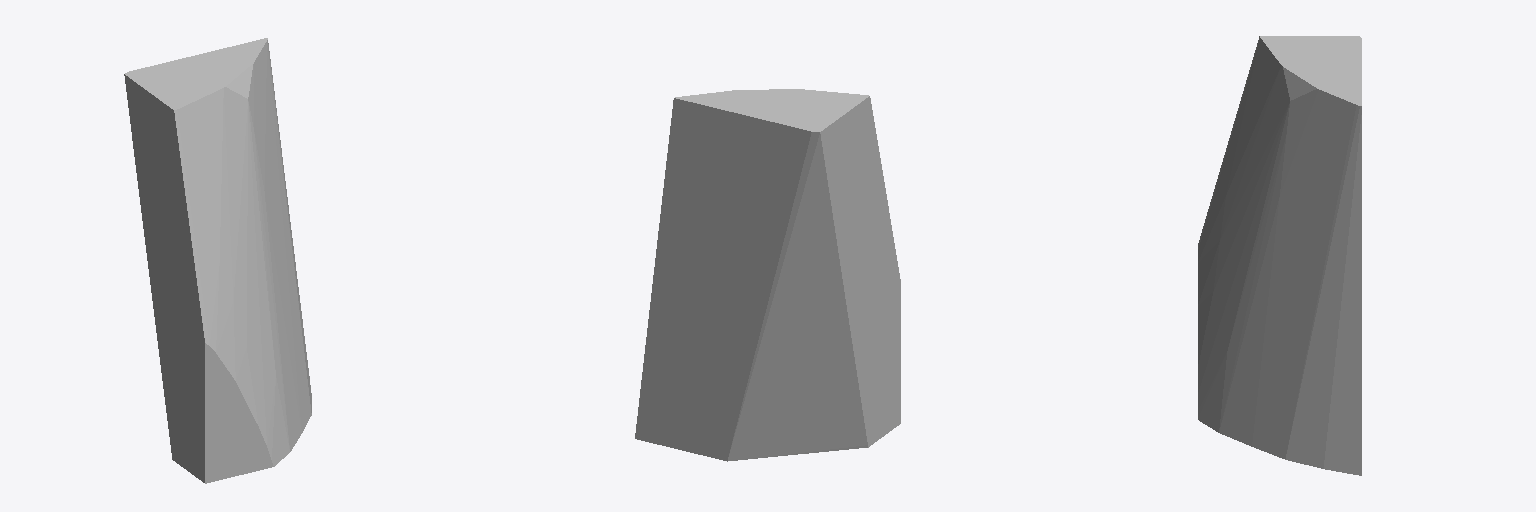
Rendered from phantom-elastrat_collision_397.obj.
3 views of the same model, side by side, from view 1: azimuth 30°, elevation 25°; view 2: azimuth 150°, elevation 25°; view 3: azimuth 270°, elevation 25° (orthographic).
Size of the model in its own units: 0.0037 by 0.0068 by 0.0029.